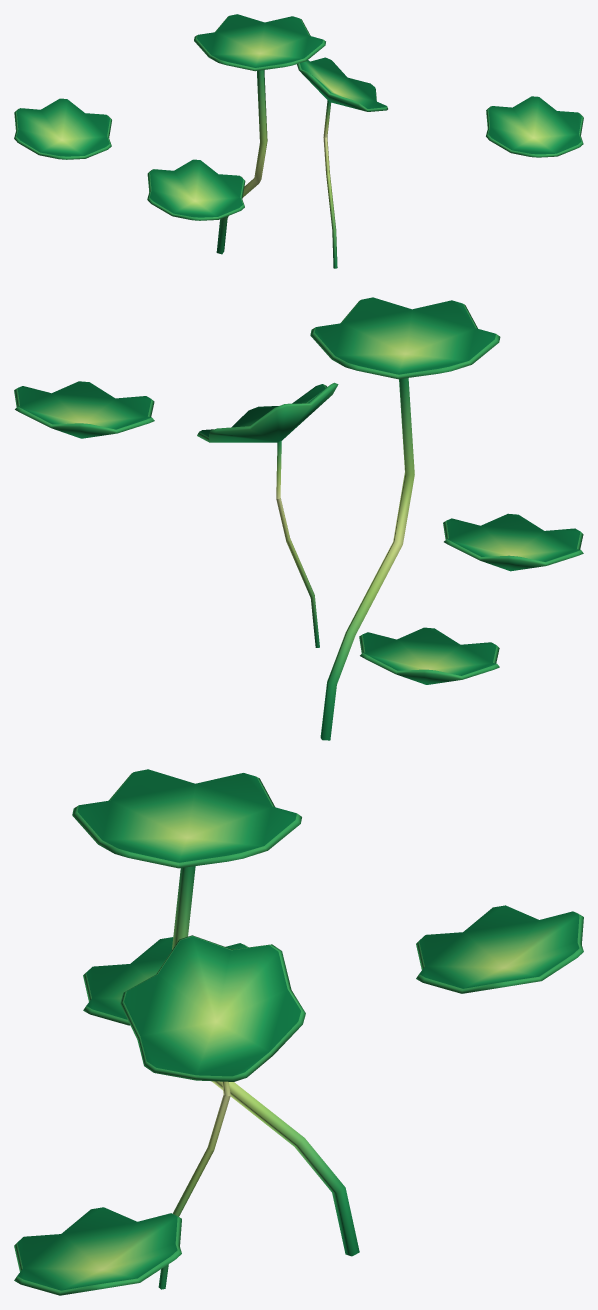
File: SK_PlantA_001.FBX
3 renders of one model, top to bottom at view 1: azimuth 30°, elevation 25°; view 2: azimuth 150°, elevation 25°; view 3: azimuth 270°, elevation 25°, orthographic. The views are drawn at different scales.
Visible parts, largest first — view 1: SK_Plant_001; view 2: SK_Plant_001; view 3: SK_Plant_001.
Boxes of the visible parts, x1,y1,x2,y2 form: SK_Plant_001: [14, 14, 583, 268]; SK_Plant_001: [14, 297, 583, 740]; SK_Plant_001: [14, 769, 583, 1295].
Size of the model in its own units: 82.21 by 43.71 by 51.87.
Materials: 1 (1 with a texture image).
